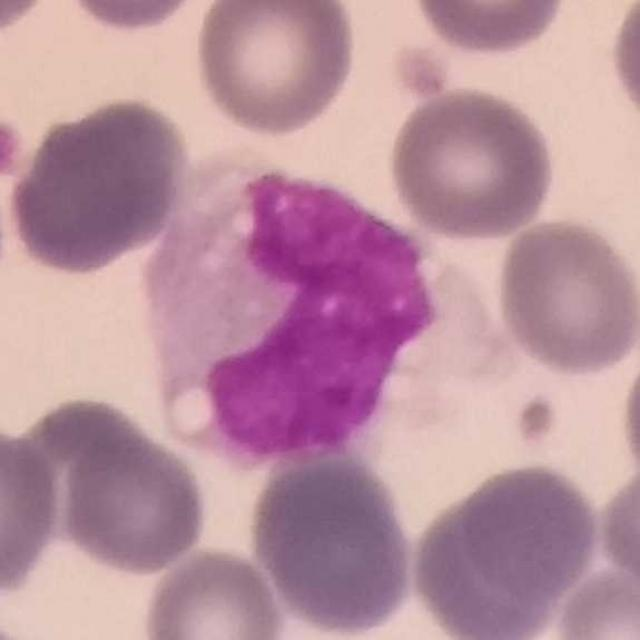mono: (141, 153, 514, 467)
